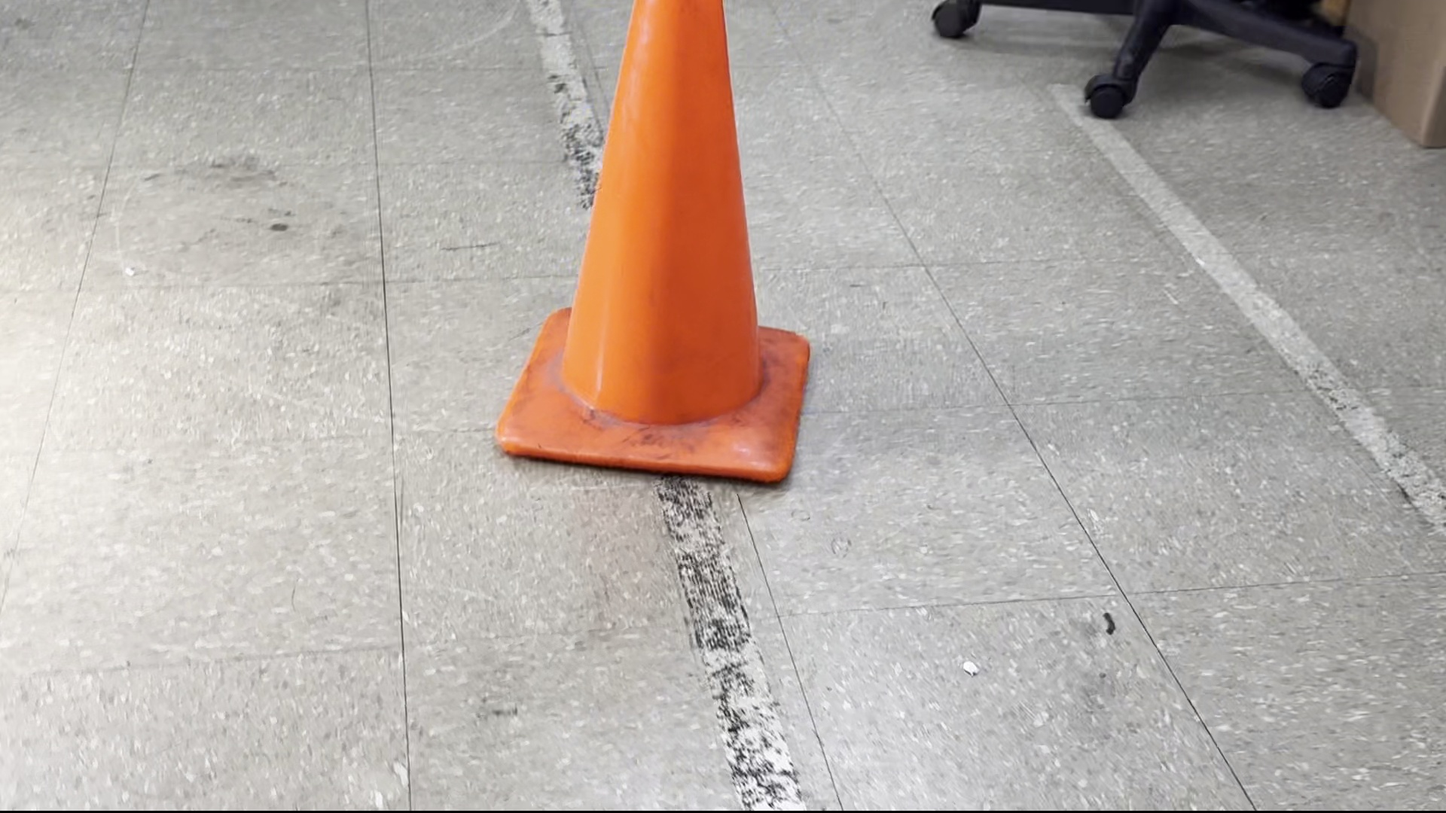traffic_cone: (494, 0, 811, 485)
